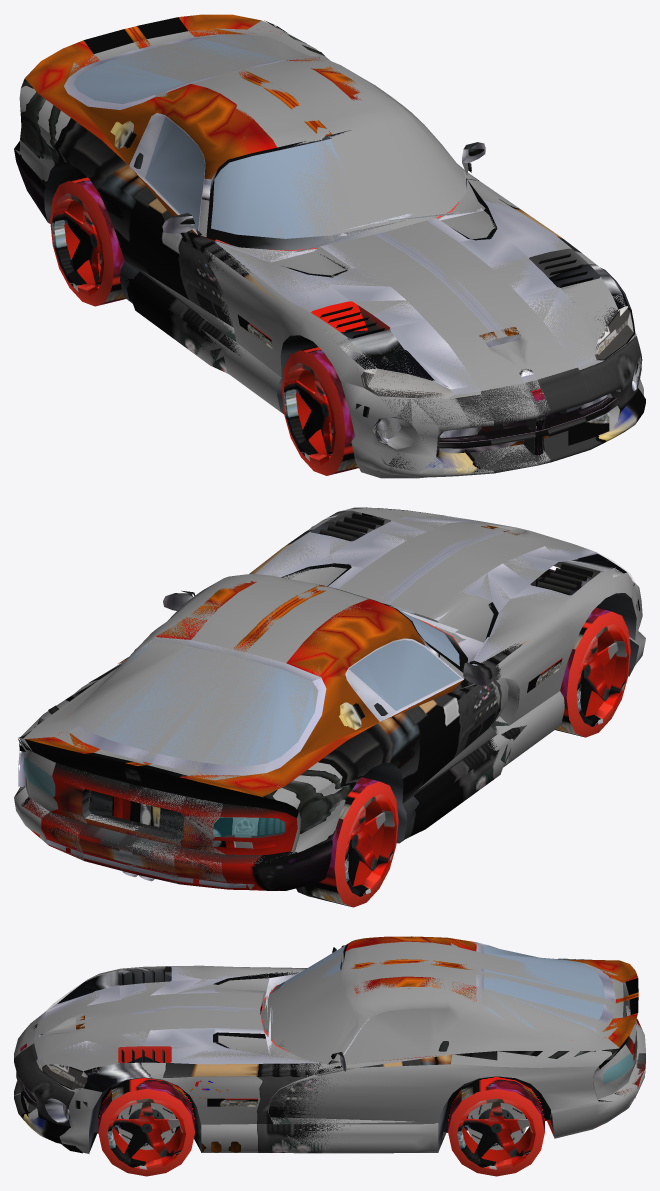
The model's file is viper.fbx.
3 renders of one model, top to bottom at view 1: azimuth 30°, elevation 25°; view 2: azimuth 150°, elevation 25°; view 3: azimuth 270°, elevation 25°, orthographic. The views are drawn at different scales.
Visible parts, largest first — view 1: car_body, ConvexHull_Hidden_01, ConvexHull_Hidden_02, fr_tire, rr_tire; view 2: car_body, ConvexHull_Hidden_02, ConvexHull_Hidden_01, rr_tire, fr_tire; view 3: ConvexHull_Hidden_01, car_body, ConvexHull_Hidden_02, rl_tire, fl_tire.
Boxes of the visible parts, x1,y1,x2,y2 form: car_body: (14, 14, 645, 478); ConvexHull_Hidden_01: (15, 109, 643, 478); ConvexHull_Hidden_02: (19, 20, 469, 244); fr_tire: (281, 346, 358, 475); rr_tire: (50, 176, 125, 306); car_body: (14, 507, 640, 890); ConvexHull_Hidden_02: (18, 574, 464, 806); ConvexHull_Hidden_01: (14, 507, 645, 889); rr_tire: (296, 777, 398, 907); fr_tire: (555, 607, 630, 737); ConvexHull_Hidden_01: (14, 965, 645, 1153); car_body: (14, 936, 645, 1153); ConvexHull_Hidden_02: (262, 941, 623, 1067); rl_tire: (448, 1076, 544, 1176); fl_tire: (98, 1078, 195, 1176).
Size of the model in its own units: 192 by 429 by 124.
